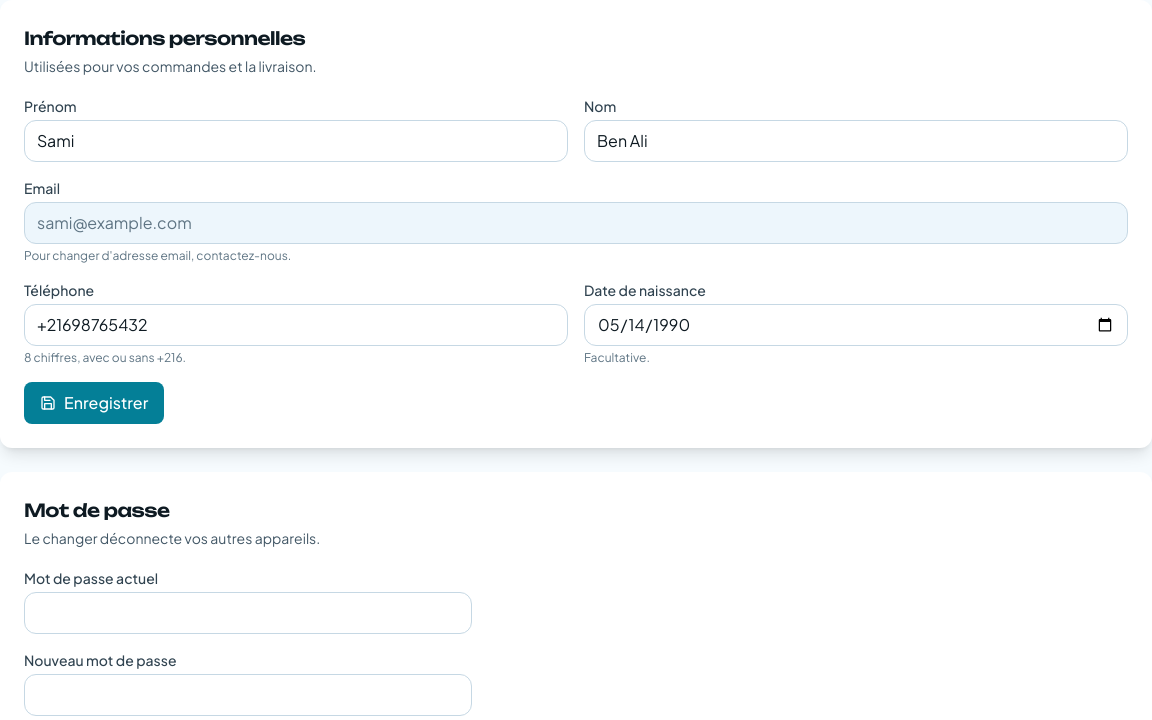
Test case: customer account settings › shows the server reason in French
The image size is (1152, 720).
Expected: the field showing "Sami" is shown, left=24, top=120, right=568, bottom=162
Step 1. Click the button "Enregistrer" → (94, 403), box left=24, top=382, right=164, bottom=424
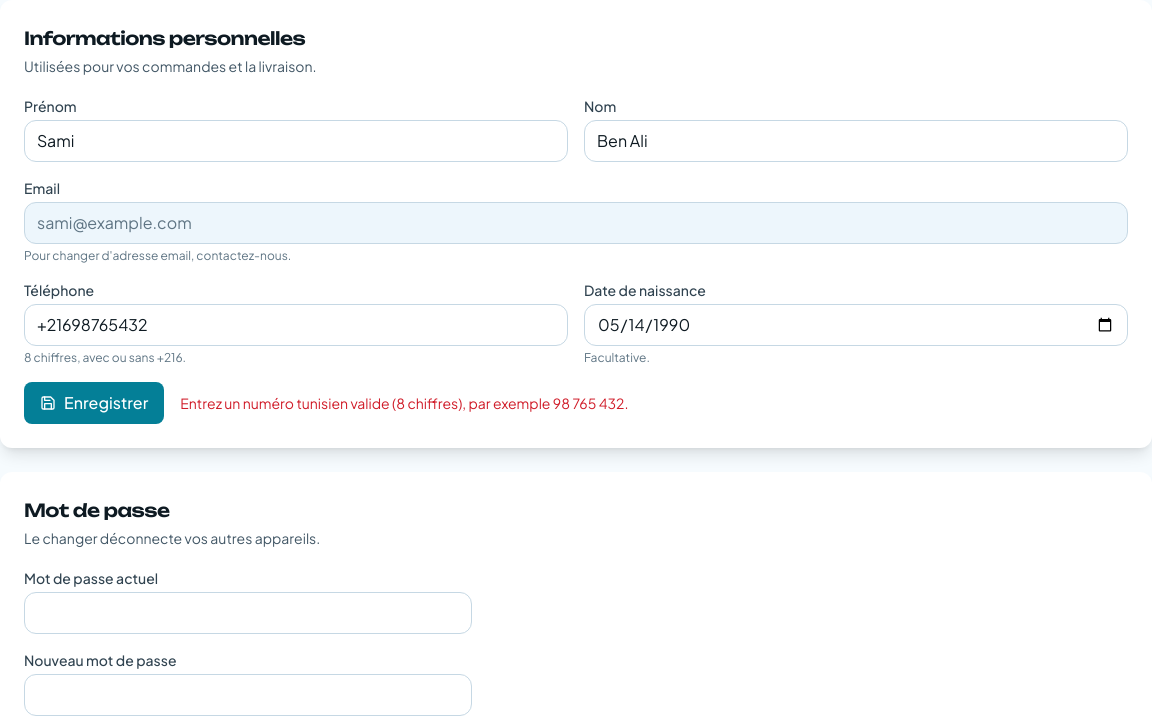
Expected: the message shows "8 chiffres", left=180, top=394, right=628, bottom=412
